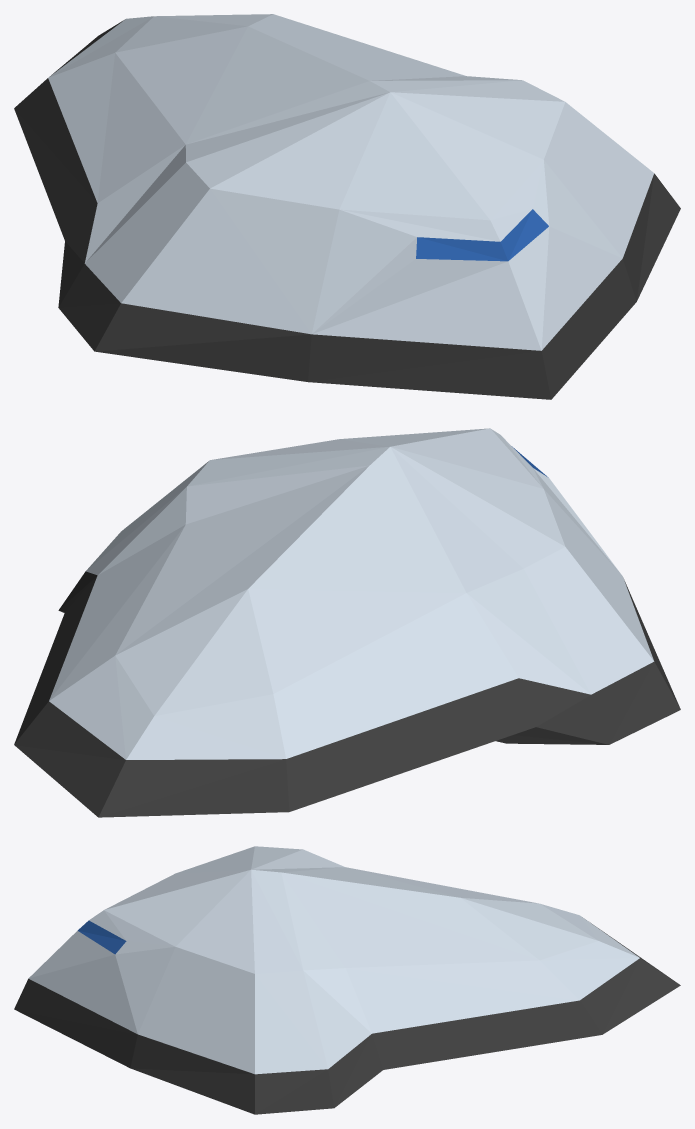
The model's file is Enemy1.FBX.
3 renders of one model, top to bottom at view 1: azimuth 30°, elevation 25°; view 2: azimuth 150°, elevation 25°; view 3: azimuth 270°, elevation 25°, orthographic. The views are drawn at different scales.
Visible parts, largest first — view 1: VIFS001, VIFS002, VIFS003; view 2: VIFS001, VIFS002; view 3: VIFS001, VIFS002, VIFS003.
Boxes of the visible parts, box(x1,y1,x2,y2) form: VIFS001: box(48, 14, 654, 350); VIFS002: box(14, 20, 680, 399); VIFS003: box(416, 209, 548, 261); VIFS001: box(49, 428, 654, 759); VIFS002: box(14, 571, 680, 817); VIFS001: box(28, 846, 639, 1074); VIFS002: box(14, 922, 680, 1114); VIFS003: box(77, 920, 126, 954).
Bounding box in the file's own units: 1.36 × 0.499 × 1.81.
